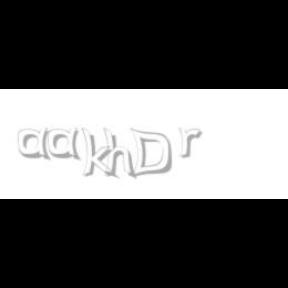D: (130, 128, 172, 178)
a: (18, 128, 55, 160), (48, 128, 84, 160)
h: (104, 128, 138, 180)
k: (81, 128, 119, 180)
r: (178, 128, 206, 158)
